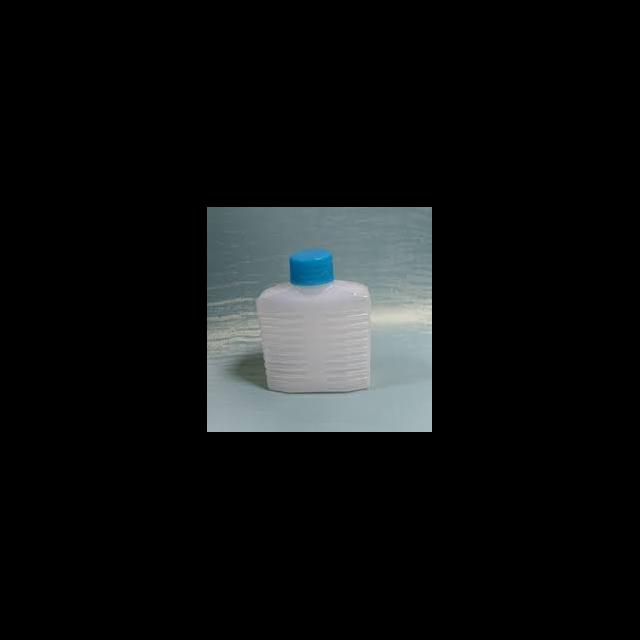plastic: (256, 250, 372, 392), (288, 248, 334, 286)
